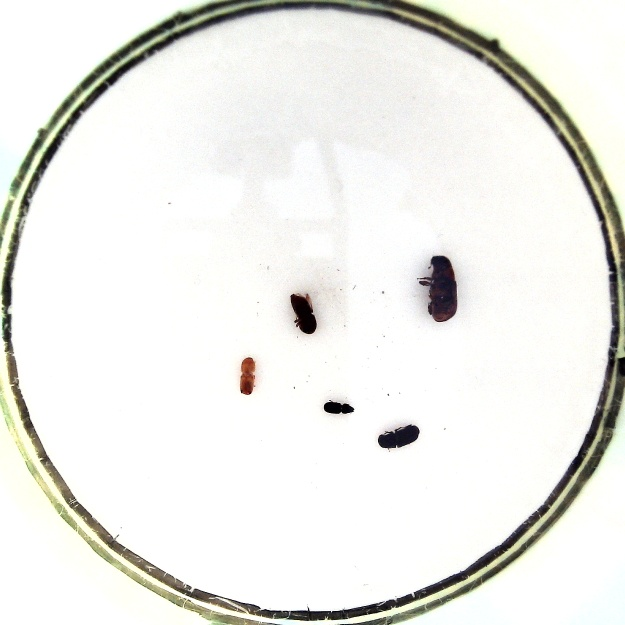acuminatus: (238, 353, 258, 398)
armandi: (376, 422, 420, 450)
coleoptera: (321, 397, 356, 417)
leconte: (417, 254, 459, 323)
linnaeus: (289, 291, 318, 335)
